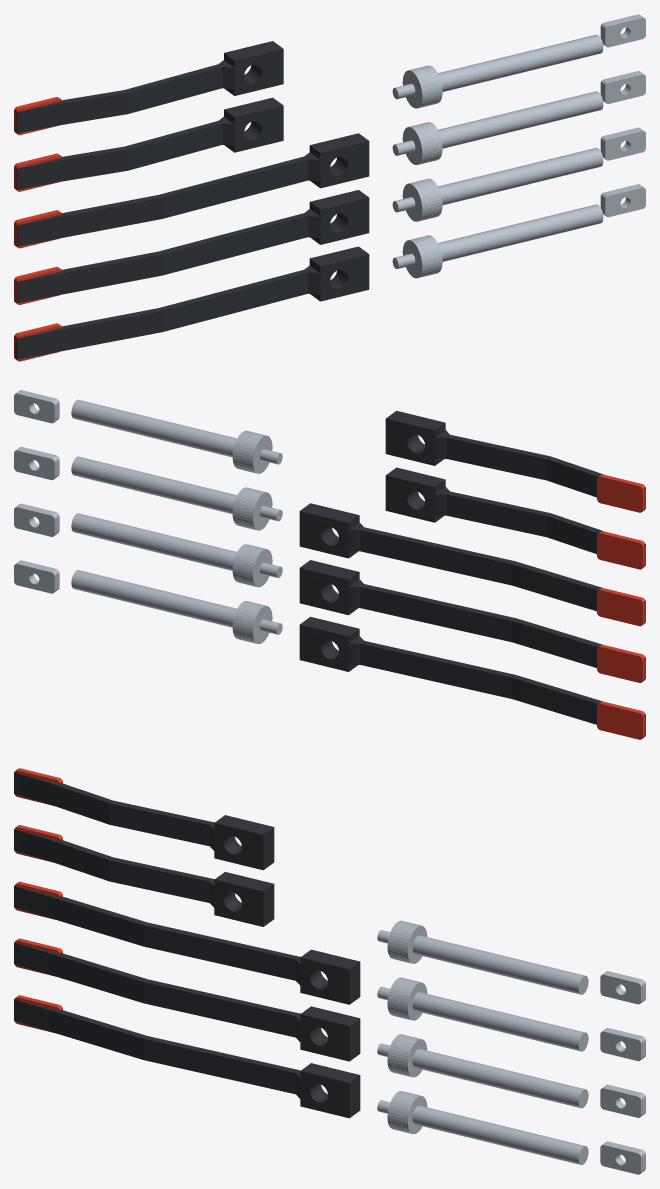
The model's file is prepared_workholding_kit.glb.
3 renders of one model, top to bottom at view 1: azimuth 30°, elevation 25°; view 2: azimuth 150°, elevation 25°; view 3: azimuth 330°, elevation 25°, orthographic.
Visible parts, largest first — view 1: arm_1_bowed_arm_with_post_bore, arm_3_bowed_arm_with_post_bore, arm_2_bowed_arm_with_post_bore, arm_5_bowed_arm_with_post_bore, arm_4_bowed_arm_with_post_bore, post_2_shaft, post_4_shaft, post_3_shaft, post_1_shaft, post_2_knurled_grip, post_1_knurled_grip, post_4_knurled_grip (+5 smaller); view 2: arm_3_bowed_arm_with_post_bore, arm_1_bowed_arm_with_post_bore, arm_2_bowed_arm_with_post_bore, arm_4_bowed_arm_with_post_bore, arm_5_bowed_arm_with_post_bore, post_3_shaft, post_1_shaft, post_4_shaft, post_2_shaft, arm_5_red_contact_pad, arm_1_red_contact_pad, arm_4_red_contact_pad (+10 smaller); view 3: arm_2_bowed_arm_with_post_bore, arm_1_bowed_arm_with_post_bore, arm_3_bowed_arm_with_post_bore, arm_4_bowed_arm_with_post_bore, arm_5_bowed_arm_with_post_bore, post_2_shaft, post_3_shaft, post_4_shaft, post_1_shaft, post_4_knurled_grip, post_3_knurled_grip, post_2_knurled_grip (+5 smaller).
Part boxes in pixels (left/top/right/bottom): arm_1_bowed_arm_with_post_bore: left=15, top=246, right=369, bottom=359; arm_3_bowed_arm_with_post_bore: left=15, top=133, right=369, bottom=246; arm_2_bowed_arm_with_post_bore: left=15, top=190, right=369, bottom=303; arm_5_bowed_arm_with_post_bore: left=15, top=41, right=283, bottom=133; arm_4_bowed_arm_with_post_bore: left=15, top=97, right=283, bottom=189; post_2_shaft: left=407, top=147, right=603, bottom=211; post_4_shaft: left=407, top=34, right=603, bottom=98; post_3_shaft: left=407, top=91, right=603, bottom=155; post_1_shaft: left=408, top=204, right=603, bottom=268; post_2_knurled_grip: left=402, top=178, right=442, bottom=221; post_1_knurled_grip: left=402, top=235, right=442, bottom=278; post_4_knurled_grip: left=402, top=65, right=442, bottom=108; arm_3_bowed_arm_with_post_bore: left=299, top=503, right=645, bottom=623; arm_1_bowed_arm_with_post_bore: left=299, top=616, right=645, bottom=736; arm_2_bowed_arm_with_post_bore: left=299, top=560, right=645, bottom=679; arm_4_bowed_arm_with_post_bore: left=385, top=467, right=645, bottom=566; arm_5_bowed_arm_with_post_bore: left=385, top=410, right=645, bottom=509; post_3_shaft: left=71, top=456, right=267, bottom=520; post_1_shaft: left=71, top=570, right=267, bottom=634; post_4_shaft: left=71, top=399, right=267, bottom=464; post_2_shaft: left=71, top=513, right=267, bottom=577; arm_5_red_contact_pad: left=597, top=474, right=645, bottom=512; arm_1_red_contact_pad: left=597, top=701, right=645, bottom=739; arm_4_red_contact_pad: left=597, top=531, right=645, bottom=569; arm_2_bowed_arm_with_post_bore: left=14, top=942, right=360, bottom=1061; arm_1_bowed_arm_with_post_bore: left=14, top=999, right=360, bottom=1118; arm_3_bowed_arm_with_post_bore: left=14, top=886, right=360, bottom=1004; arm_4_bowed_arm_with_post_bore: left=14, top=829, right=274, bottom=926; arm_5_bowed_arm_with_post_bore: left=14, top=772, right=274, bottom=870; post_2_shaft: left=412, top=1048, right=588, bottom=1108; post_3_shaft: left=412, top=992, right=588, bottom=1051; post_4_shaft: left=412, top=935, right=588, bottom=994; post_1_shaft: left=412, top=1105, right=588, bottom=1164; post_4_knurled_grip: left=387, top=920, right=427, bottom=963; post_3_knurled_grip: left=387, top=977, right=427, bottom=1020; post_2_knurled_grip: left=387, top=1034, right=427, bottom=1077.
Size of the model in its own units: 0.371 by 0.148 by 0.0201.
